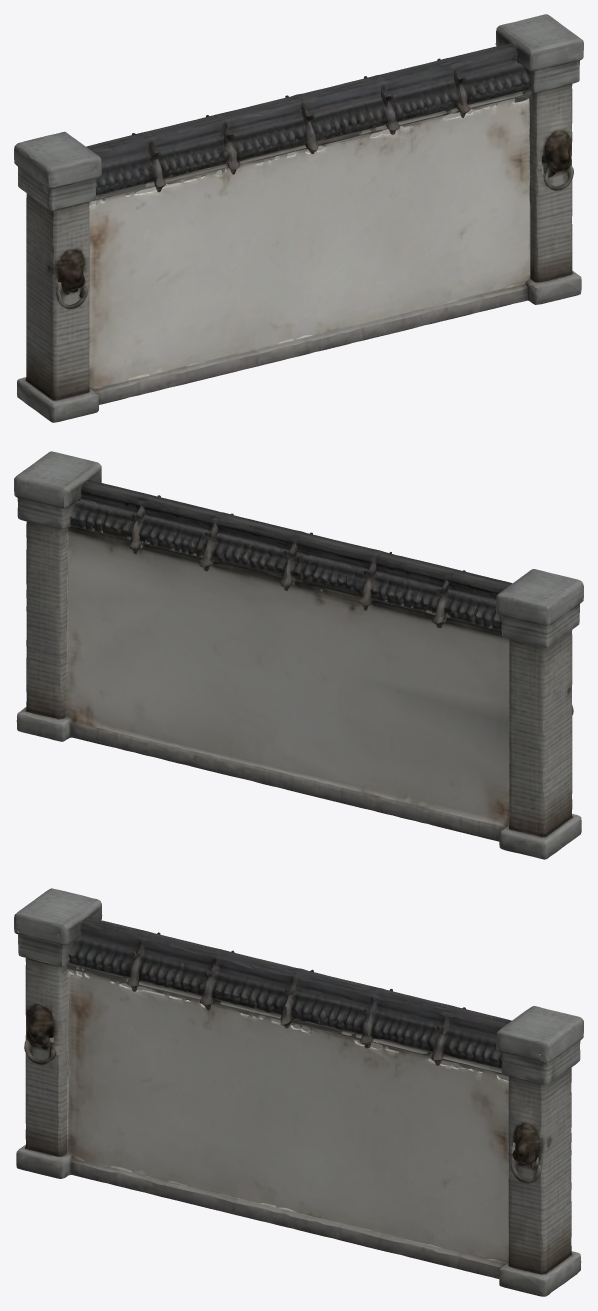
File: back-wall.glb
3 views of the same model, one above another, from view 1: azimuth 30°, elevation 25°; view 2: azimuth 150°, elevation 25°; view 3: azimuth 330°, elevation 25° (orthographic).
Parts seen in each view (by area): view 1: geometry_0; view 2: geometry_0; view 3: geometry_0.
Boxes of the visible parts, bbox=[...] form: geometry_0: bbox=[14, 14, 583, 422]; geometry_0: bbox=[14, 451, 583, 859]; geometry_0: bbox=[14, 888, 583, 1296].
Size of the model in its own units: 1 by 0.4557 by 0.1389.
Materials: 1 (1 with a texture image).
